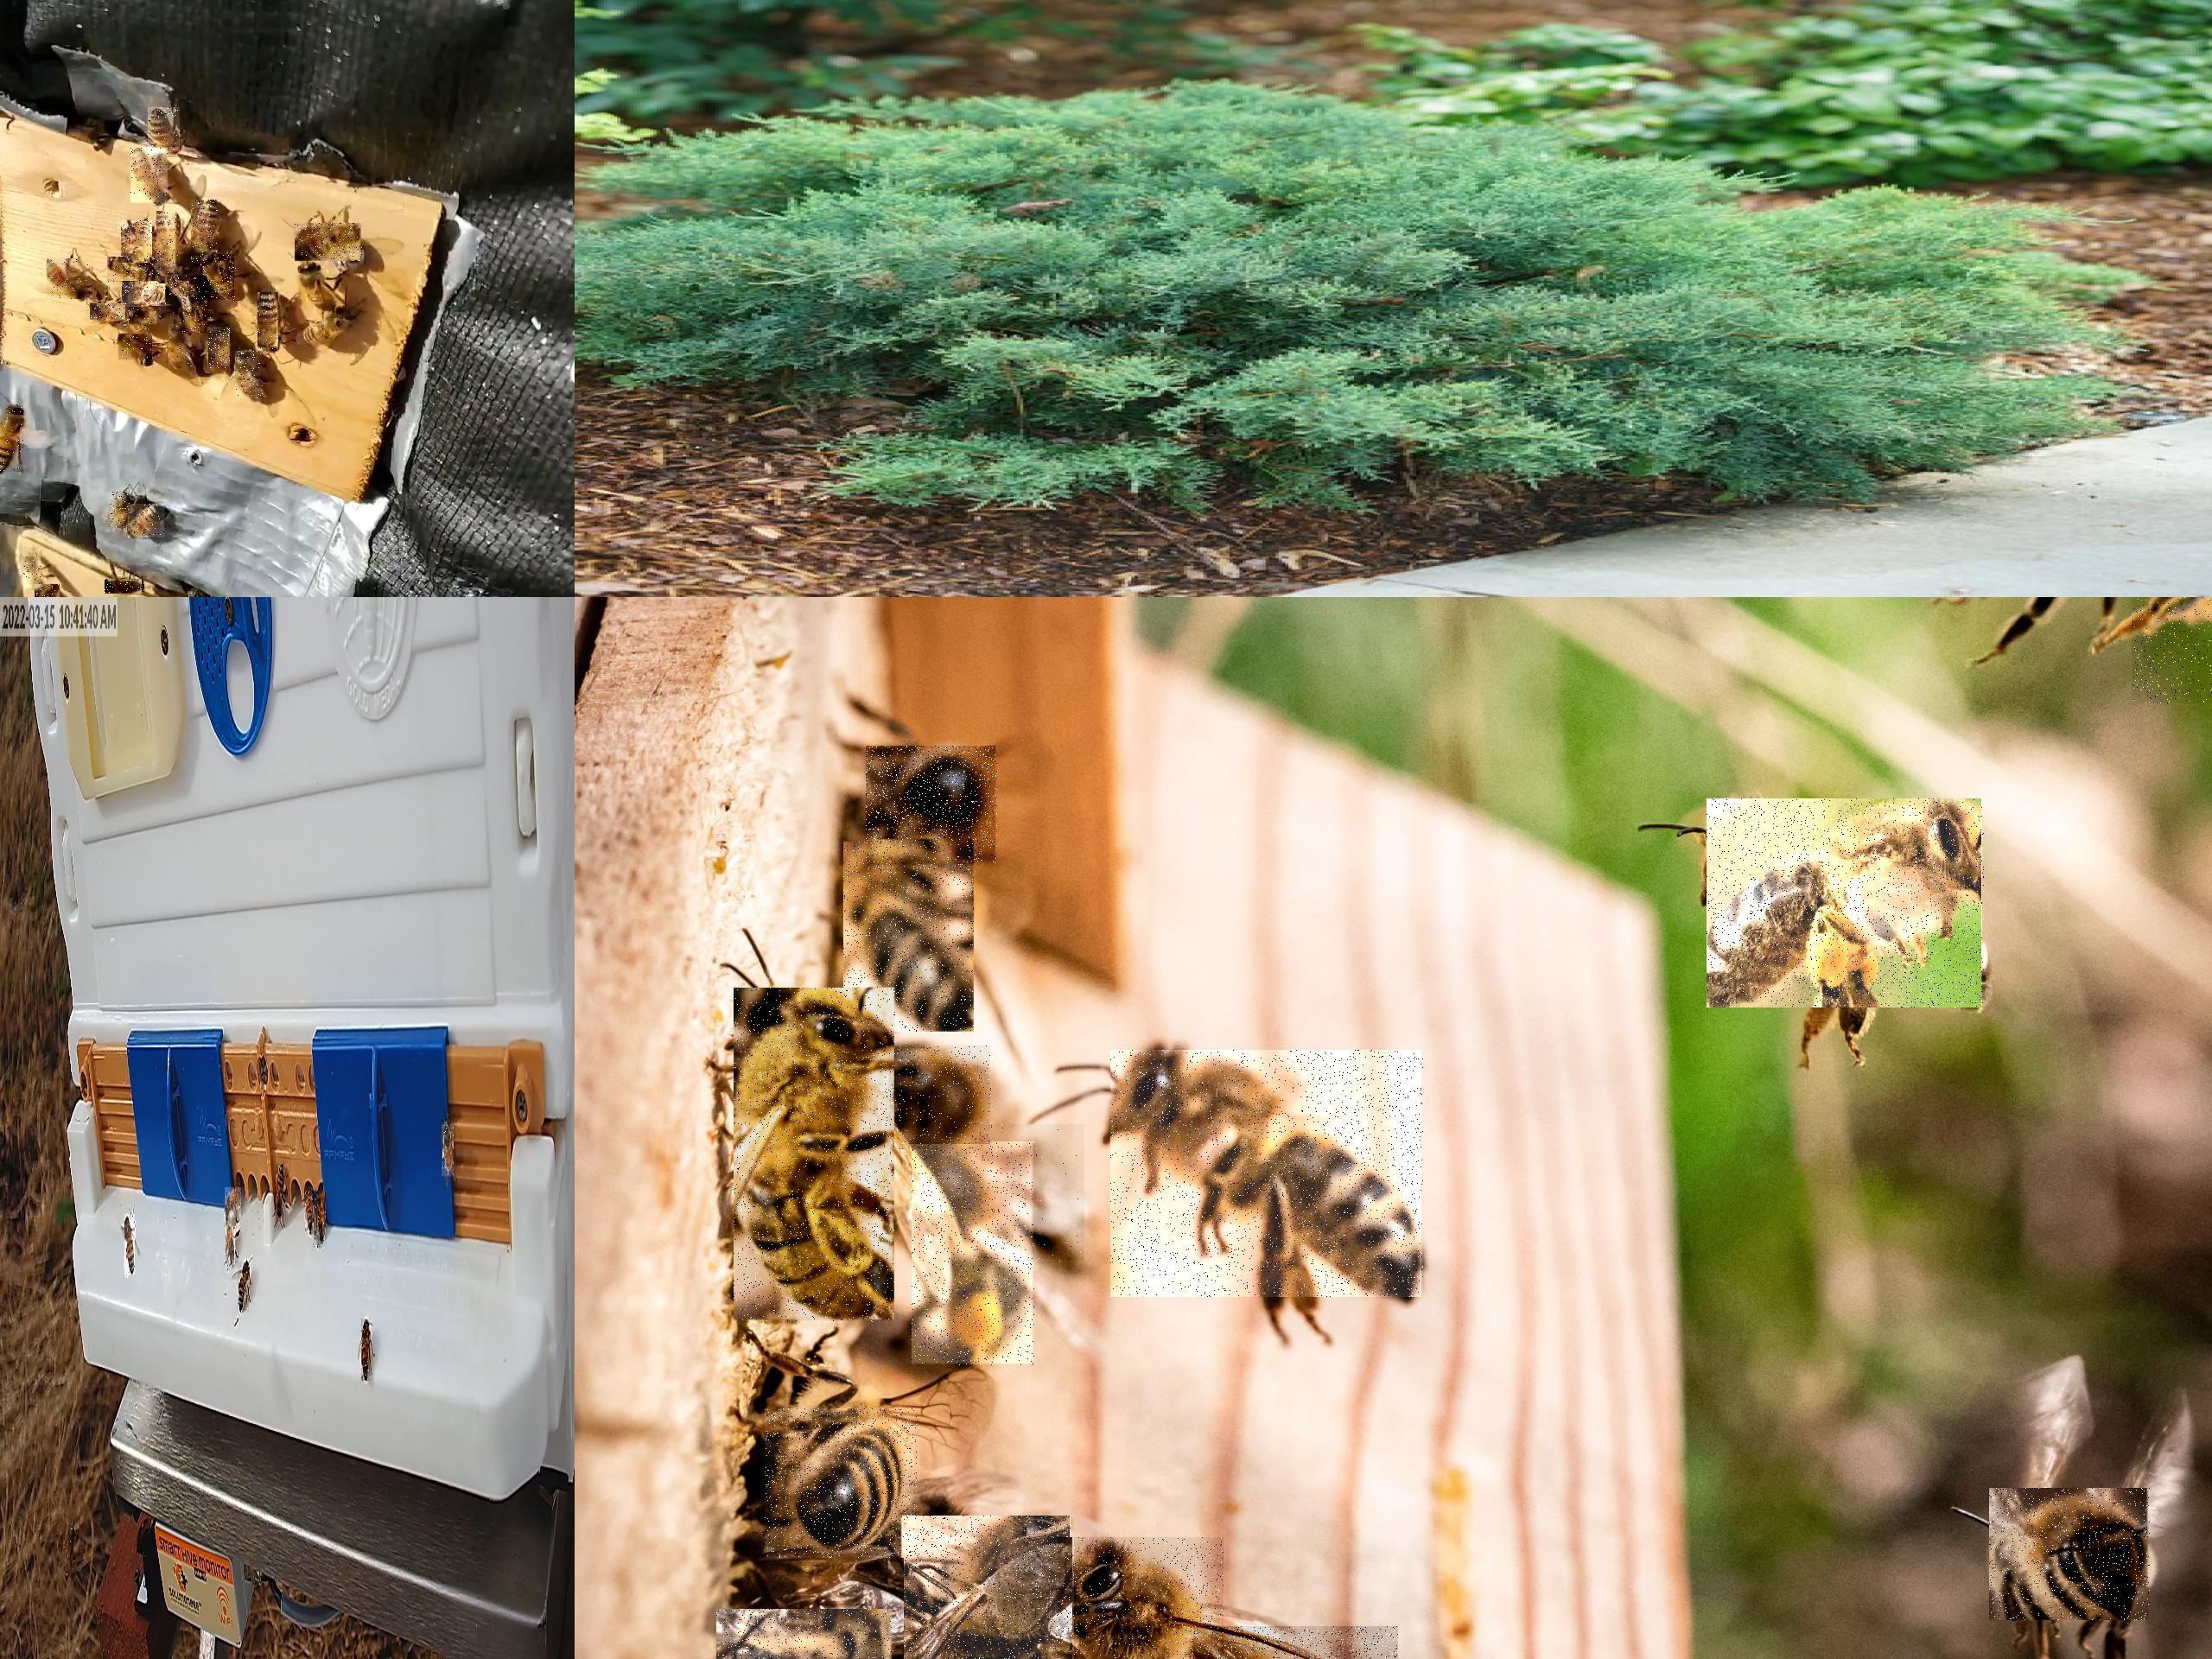bee: (1111, 1051, 1425, 1298), (733, 988, 895, 1324), (843, 842, 975, 1033), (904, 1516, 1075, 1659), (766, 1408, 918, 1560), (1989, 1488, 2151, 1621), (1059, 1537, 1224, 1659), (867, 746, 998, 864), (982, 1126, 1085, 1263), (888, 1046, 993, 1150), (716, 1608, 895, 1659), (296, 223, 364, 261), (131, 148, 169, 204), (47, 258, 91, 300), (192, 200, 219, 265), (200, 254, 237, 301), (0, 404, 24, 474), (148, 108, 181, 153), (120, 221, 153, 267), (157, 211, 179, 275), (235, 352, 265, 401), (108, 258, 160, 284), (129, 504, 165, 538), (181, 295, 212, 335), (258, 293, 279, 352), (122, 284, 169, 307), (118, 335, 153, 362), (169, 324, 190, 369), (209, 328, 232, 369), (167, 275, 209, 296), (111, 491, 131, 528), (129, 307, 162, 328), (23, 554, 42, 589), (124, 1215, 134, 1276), (237, 1262, 249, 1314), (91, 303, 125, 321), (105, 579, 143, 594), (64, 1523, 75, 1579), (361, 1319, 369, 1382), (225, 1188, 240, 1222), (305, 1188, 314, 1236), (225, 1227, 235, 1265), (35, 584, 61, 596)
pollenbee: (1707, 798, 1986, 1009), (913, 1143, 1036, 1366), (441, 1126, 455, 1180), (314, 1192, 326, 1249), (275, 1164, 286, 1222)
